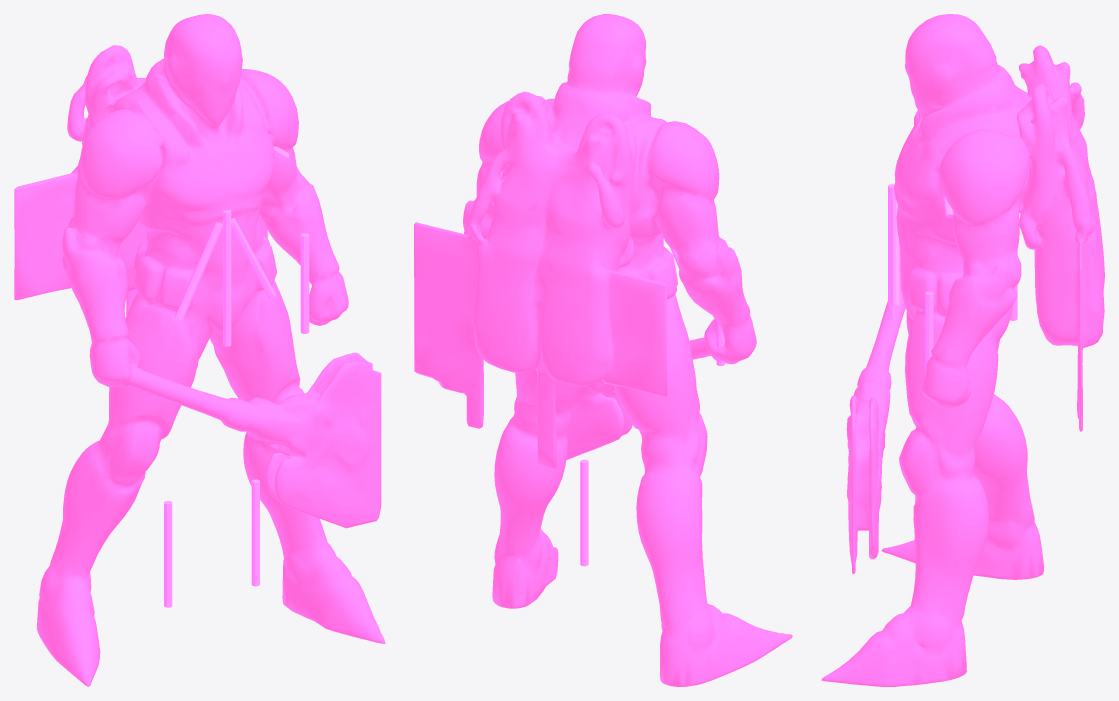
Rendered from Enforcer_Hammer.glb.
3 renders of one model, left to right at view 1: azimuth 30°, elevation 25°; view 2: azimuth 150°, elevation 25°; view 3: azimuth 270°, elevation 25°, orthographic.
Visible parts, largest first — view 1: Enforcer_Hammer; view 2: Enforcer_Hammer; view 3: Enforcer_Hammer.
Part boxes in pixels (x1=…): Enforcer_Hammer: x1=14, y1=14, x2=385, y2=686; Enforcer_Hammer: x1=414, y1=14, x2=792, y2=686; Enforcer_Hammer: x1=821, y1=14, x2=1104, y2=686.
Size of the model in its own units: 0.9944 by 1.99 by 0.8452.
